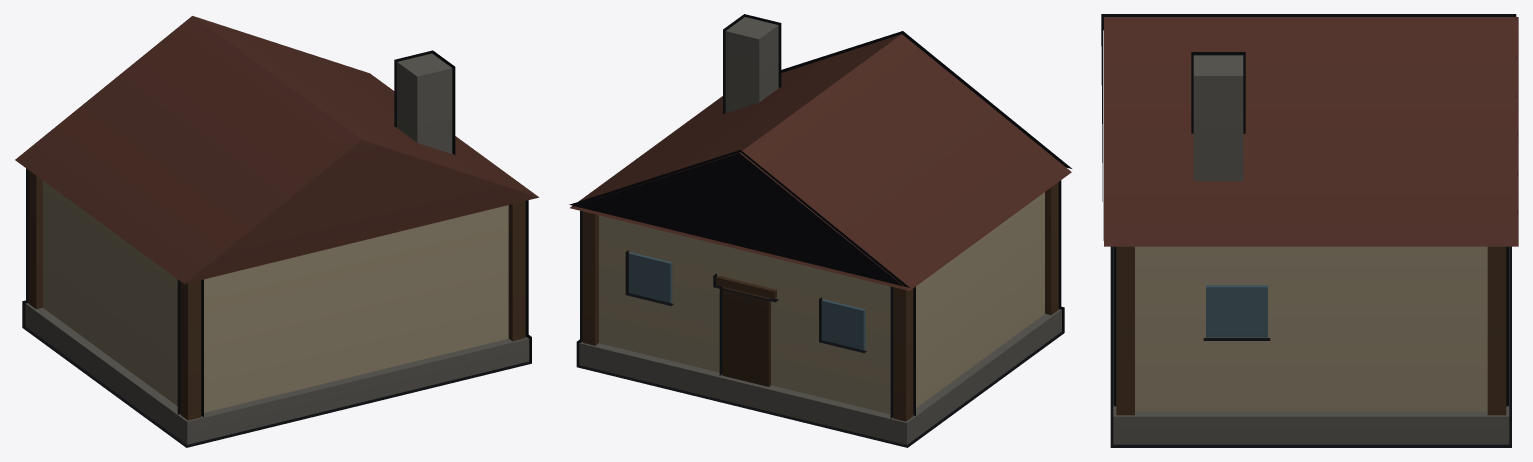
Rendered from ranch_house.glb.
3 renders of one model, left to right at view 1: azimuth 30°, elevation 25°; view 2: azimuth 150°, elevation 25°; view 3: azimuth 270°, elevation 25°, orthographic. The views are drawn at different scales.
Visible parts, largest first — view 1: prop; view 2: prop; view 3: prop.
Boxes of the visible parts, x1=… form: prop: x1=15, y1=16, x2=539, y2=447; prop: x1=569, y1=14, x2=1071, y2=447; prop: x1=1101, y1=14, x2=1518, y2=447.
Size of the model in its own units: 8.13 by 6.18 by 6.74.
